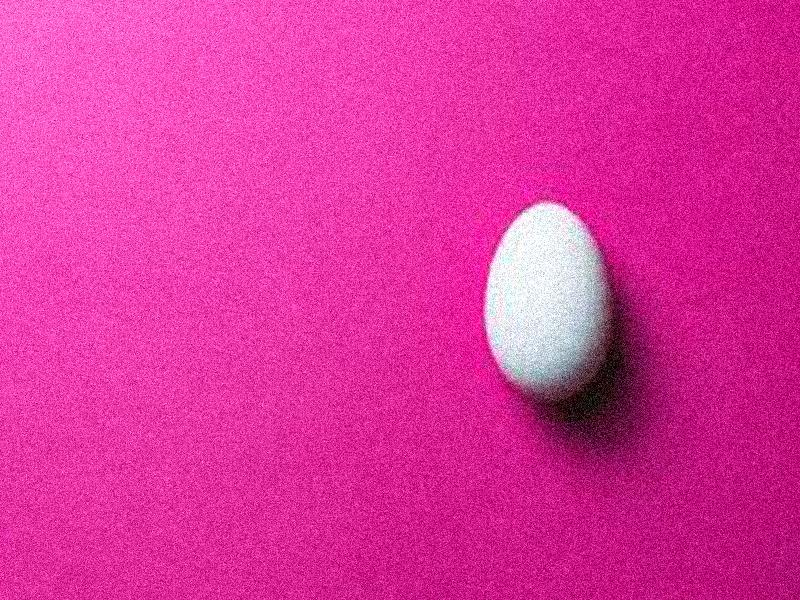Eggs: (483, 201, 611, 399)
